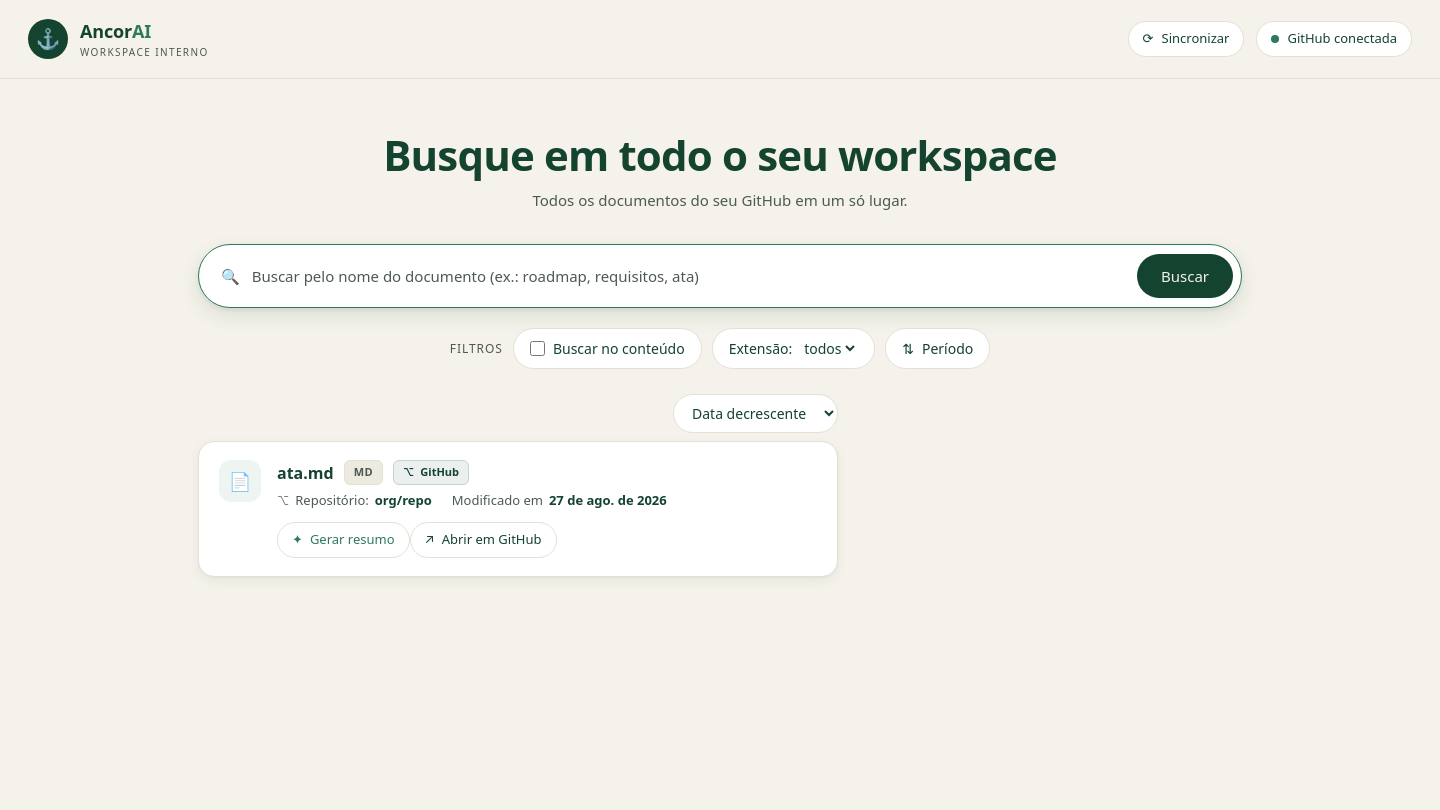
Test case: campo da chave de IA › apresenta o motivo quando a chave é recusada, sem persistir nada
Check: the text "ata.md" is shown, box [277, 460, 334, 484]
Click the button "GitHub conectada" at (1334, 39), box [1256, 21, 1412, 57]
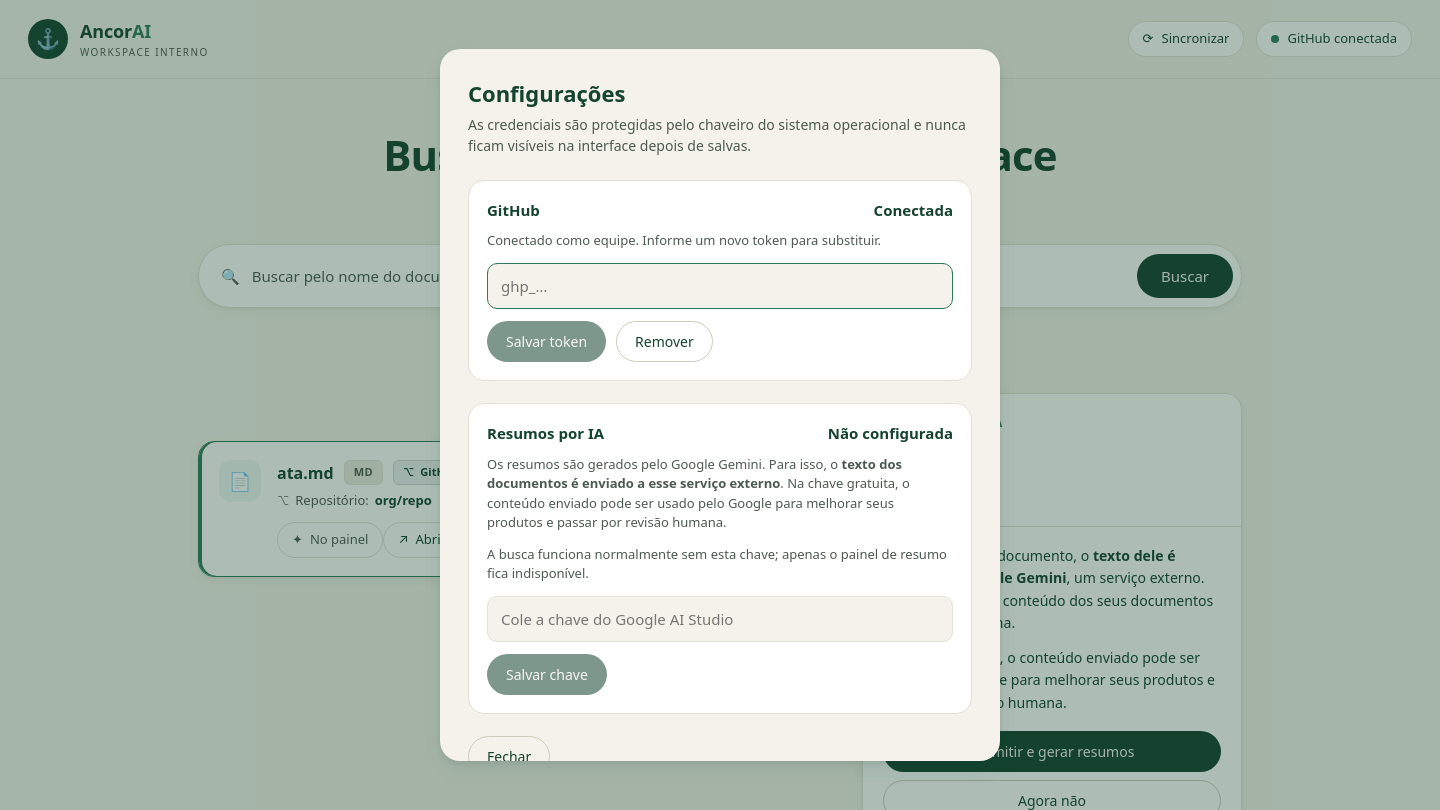
Check: the dialog is shown
Type "chave-errada" into the password field named "Chave da API do Gemini" at (720, 619), box [487, 596, 953, 642]
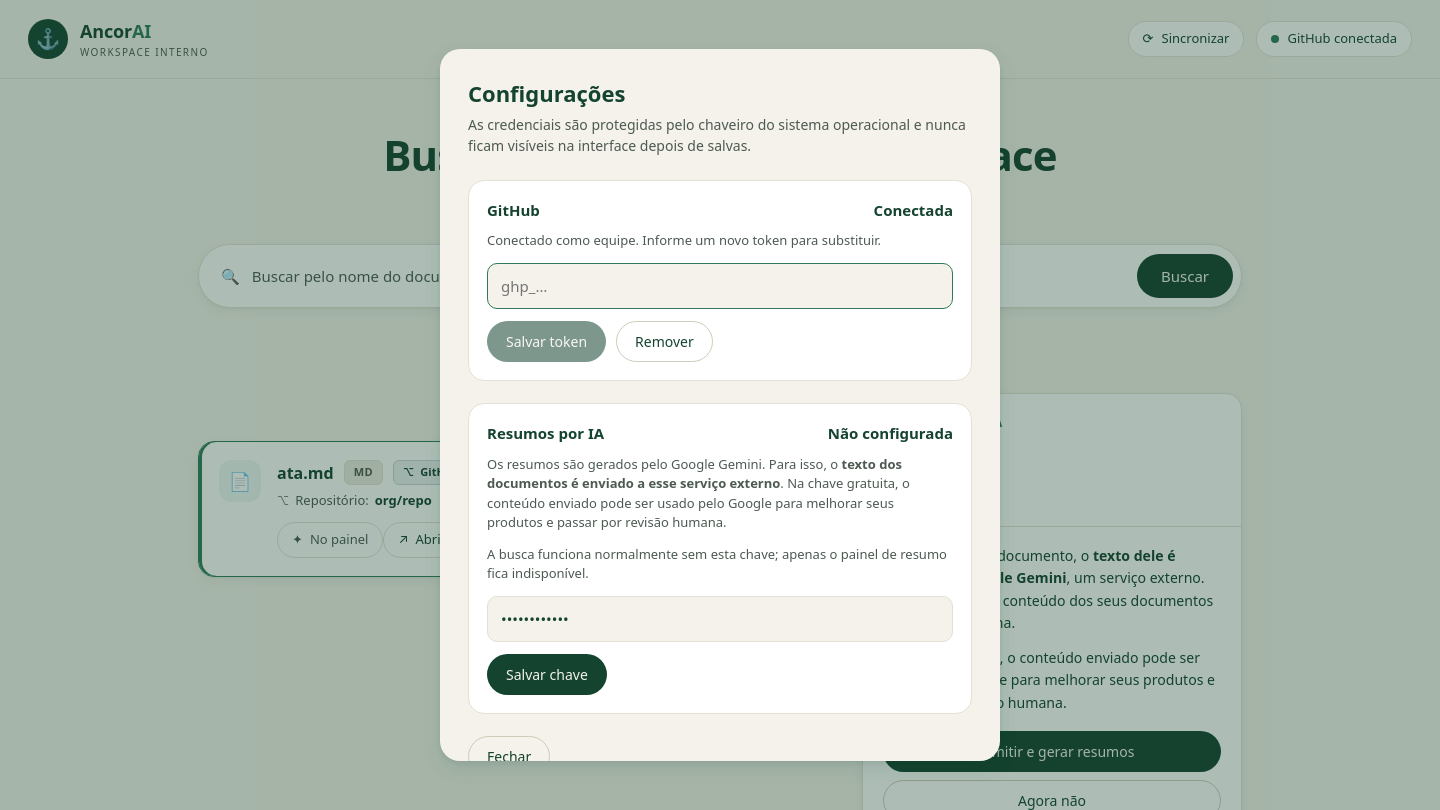
Click the button "Salvar chave" at (547, 675), box [487, 654, 607, 695]
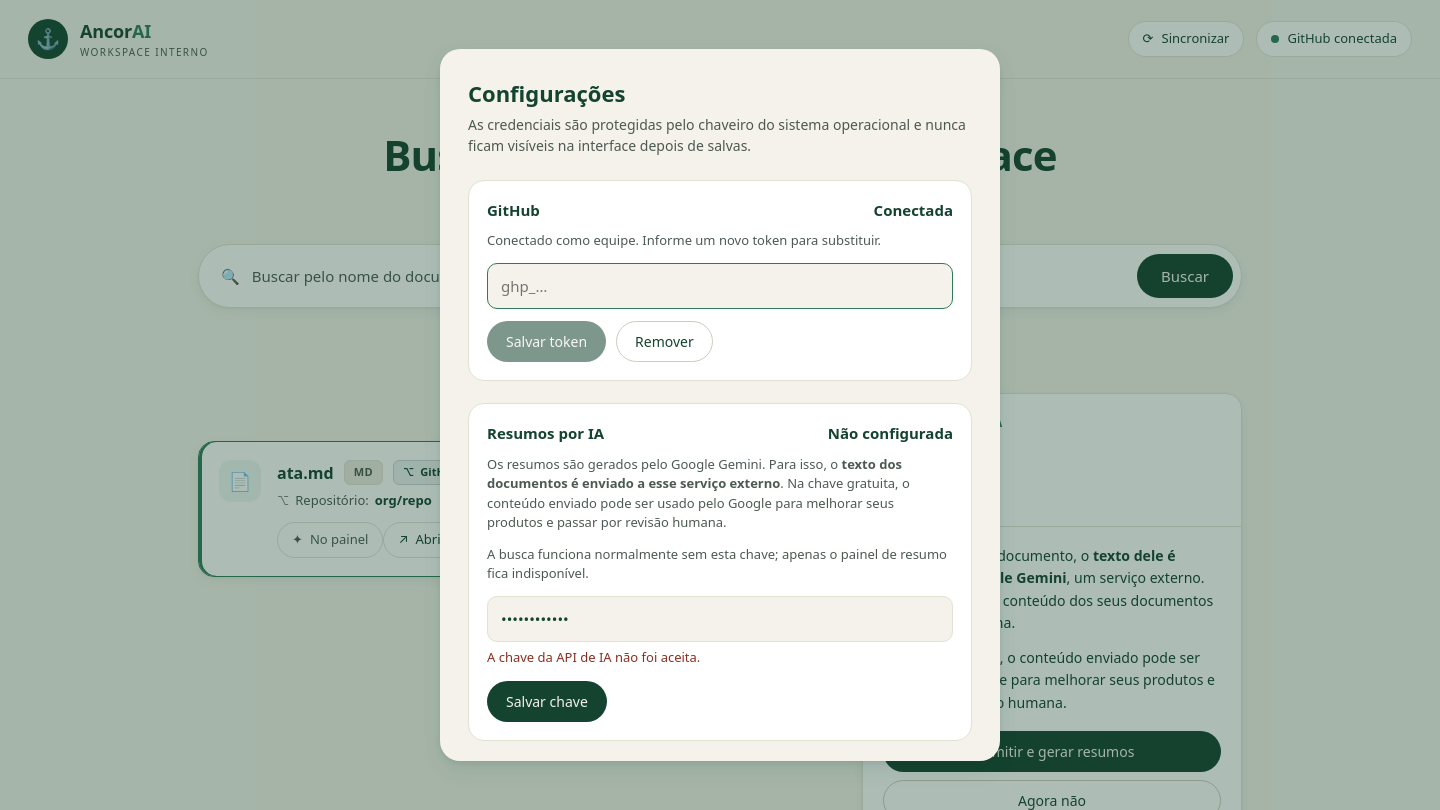
Check: the message reads "A chave da API de IA não foi aceita.", box [487, 648, 700, 666]
